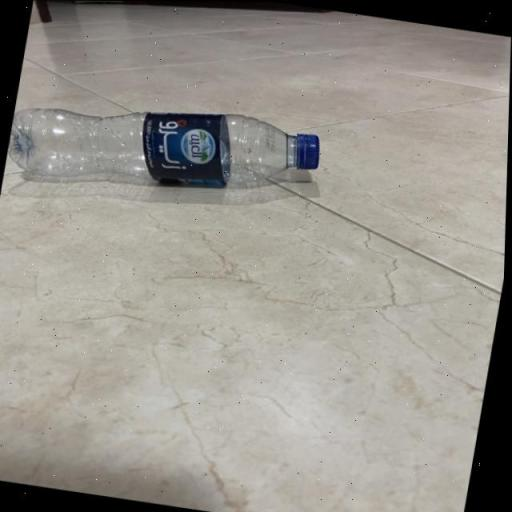plastic: (1, 75, 332, 239)
